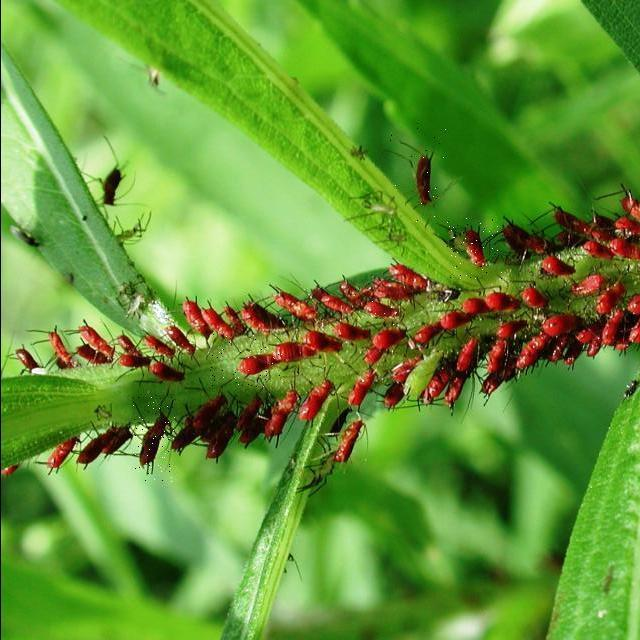aphid: (492, 275, 636, 376), (387, 116, 454, 232), (80, 138, 138, 212), (208, 334, 282, 387), (116, 328, 186, 384), (132, 395, 174, 482), (444, 218, 502, 279), (141, 283, 189, 351), (23, 322, 86, 371), (454, 340, 498, 408), (272, 273, 327, 324), (508, 209, 563, 256), (350, 284, 399, 327), (3, 338, 50, 376), (362, 328, 407, 367)
